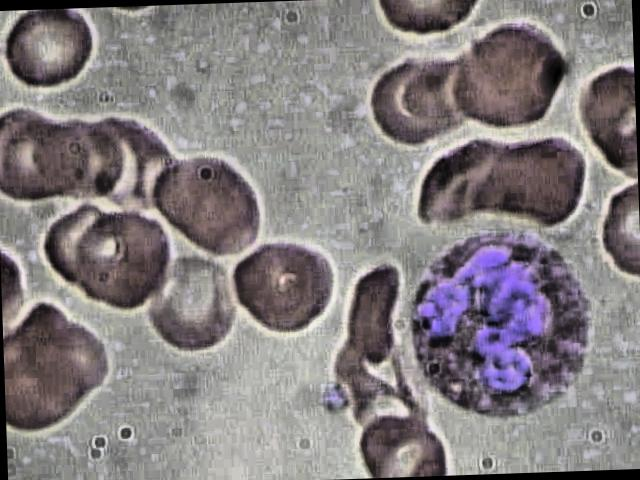Platelets: (311, 382, 353, 421)
RBC: (148, 148, 268, 263), (146, 146, 266, 261), (68, 202, 182, 309), (229, 237, 345, 333), (490, 128, 596, 230), (462, 19, 568, 116), (144, 253, 238, 354), (412, 134, 516, 222), (362, 55, 456, 144), (0, 9, 97, 93), (31, 198, 118, 291), (41, 112, 128, 204), (30, 312, 116, 405), (340, 259, 410, 366), (350, 408, 453, 478)
WBC: (398, 218, 596, 428)
